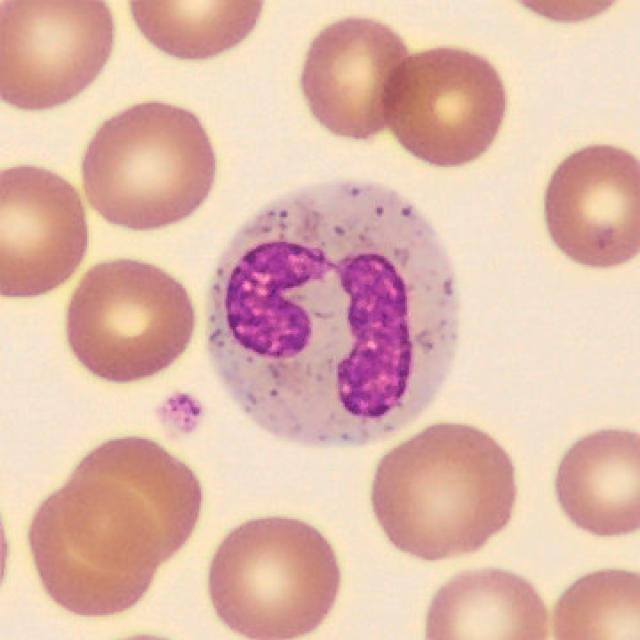Neutrofilo segmentado: (210, 181, 460, 450)
